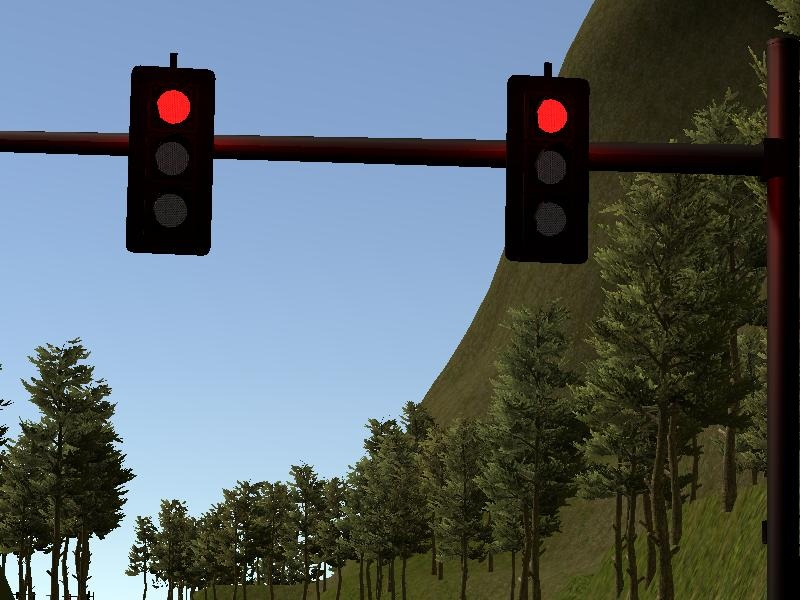Red: (123, 59, 218, 259), (501, 70, 595, 268)
